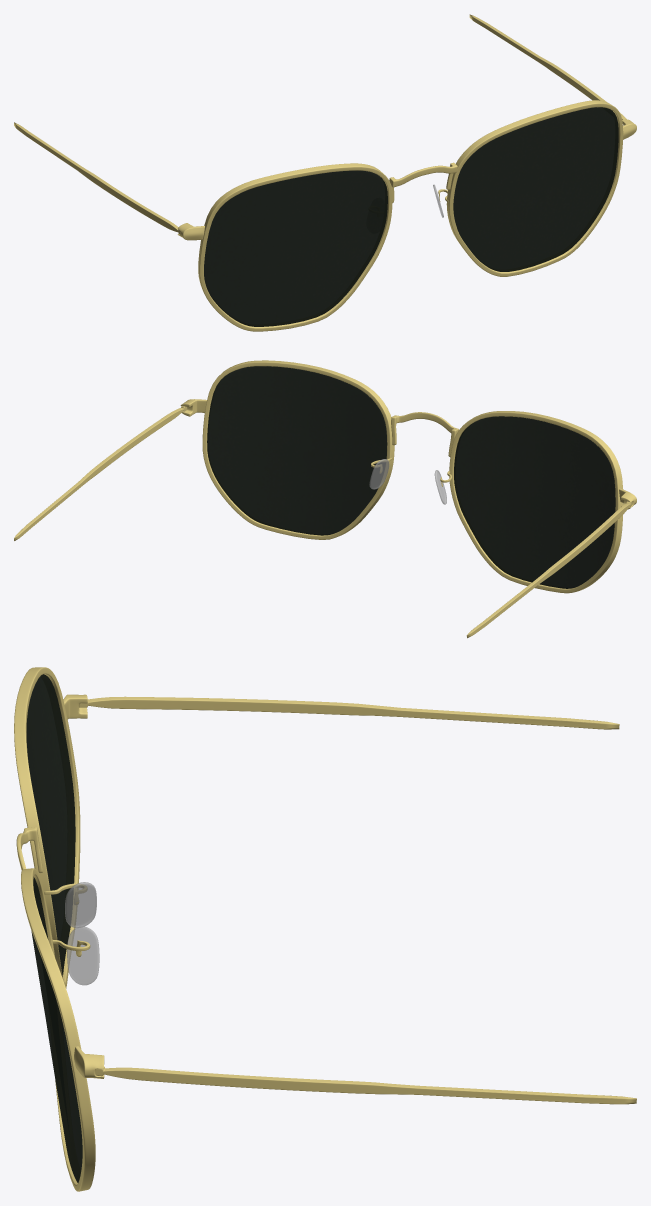
Rendered from HexagonalApp.glb.
The picture shows the model from 3 angles, top to bottom: view 1: azimuth 30°, elevation 25°; view 2: azimuth 150°, elevation 25°; view 3: azimuth 270°, elevation 25°; orthographic projection. The views are drawn at different scales.
Parts seen in each view (by area): view 1: Lentes.001, armacao; view 2: Lentes.001, armacao, Pontes; view 3: armacao, Lentes.001, Pontes.
Part boxes in pixels (x1=…): Lentes.001: x1=204, y1=107, x2=618, y2=326; armacao: x1=14, y1=14, x2=636, y2=331; Lentes.001: x1=207, y1=366, x2=615, y2=588; armacao: x1=14, y1=360, x2=636, y2=638; Pontes: x1=369, y1=459, x2=446, y2=504; armacao: x1=14, y1=667, x2=636, y2=1191; Lentes.001: x1=26, y1=674, x2=82, y2=1182; Pontes: x1=65, y1=882, x2=99, y2=985.
Bounding box in the file's own units: 0.1538 × 0.0533 × 0.1101.
Materials: 3 (3 with a texture image).
